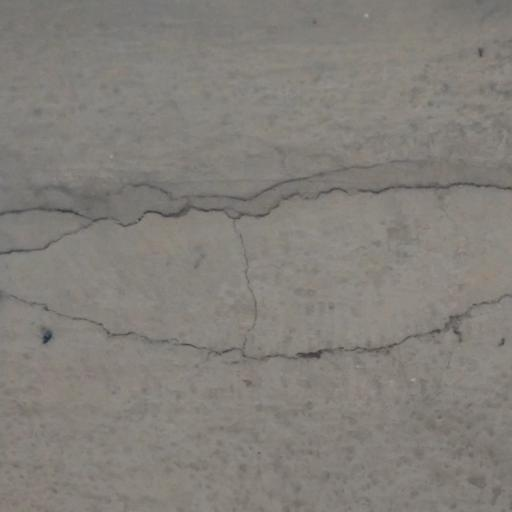minor_crack: (0, 149, 512, 371)
